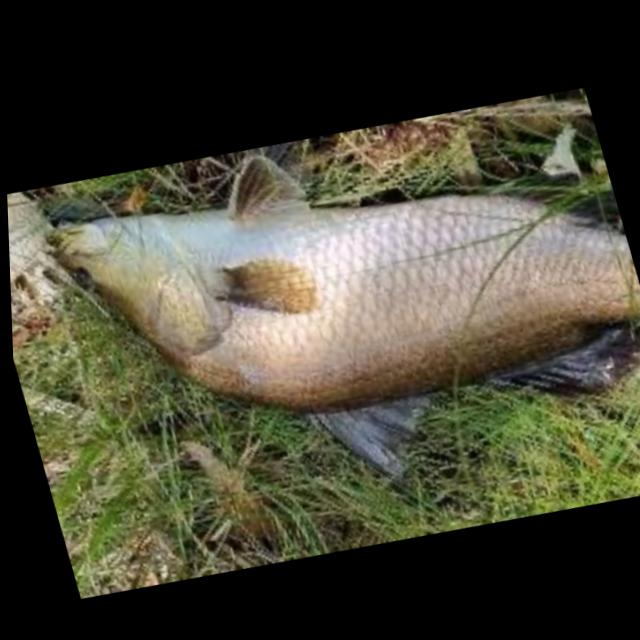Seabass: (23, 48, 640, 567)
